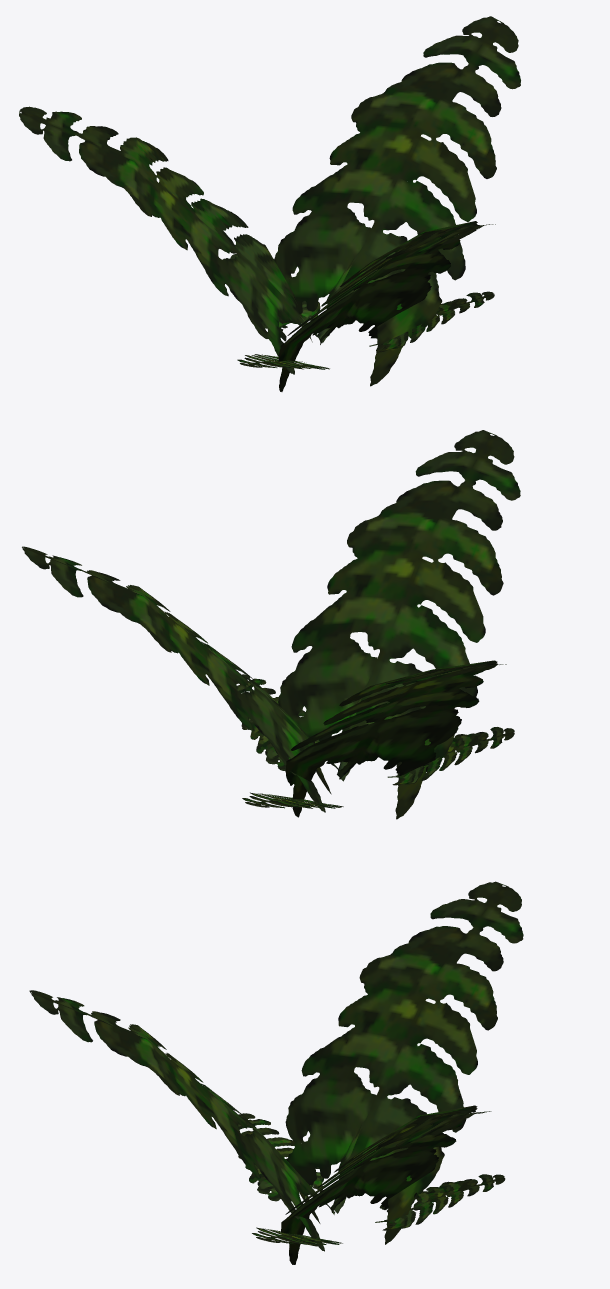
File: fern_4.fbx
3 renders of one model, top to bottom at view 1: azimuth 30°, elevation 25°; view 2: azimuth 150°, elevation 25°; view 3: azimuth 270°, elevation 25°, orthographic. The views are drawn at different scales.
Parts seen in each view (by area): view 1: fern4; view 2: fern4; view 3: fern4.
Boxes of the visible parts, left/top/right/bottom form: fern4: left=19, top=16, right=520, bottom=391; fern4: left=22, top=430, right=520, bottom=819; fern4: left=29, top=881, right=523, bottom=1264.
Bounding box in the file's own units: 162 × 73.89 × 142.
